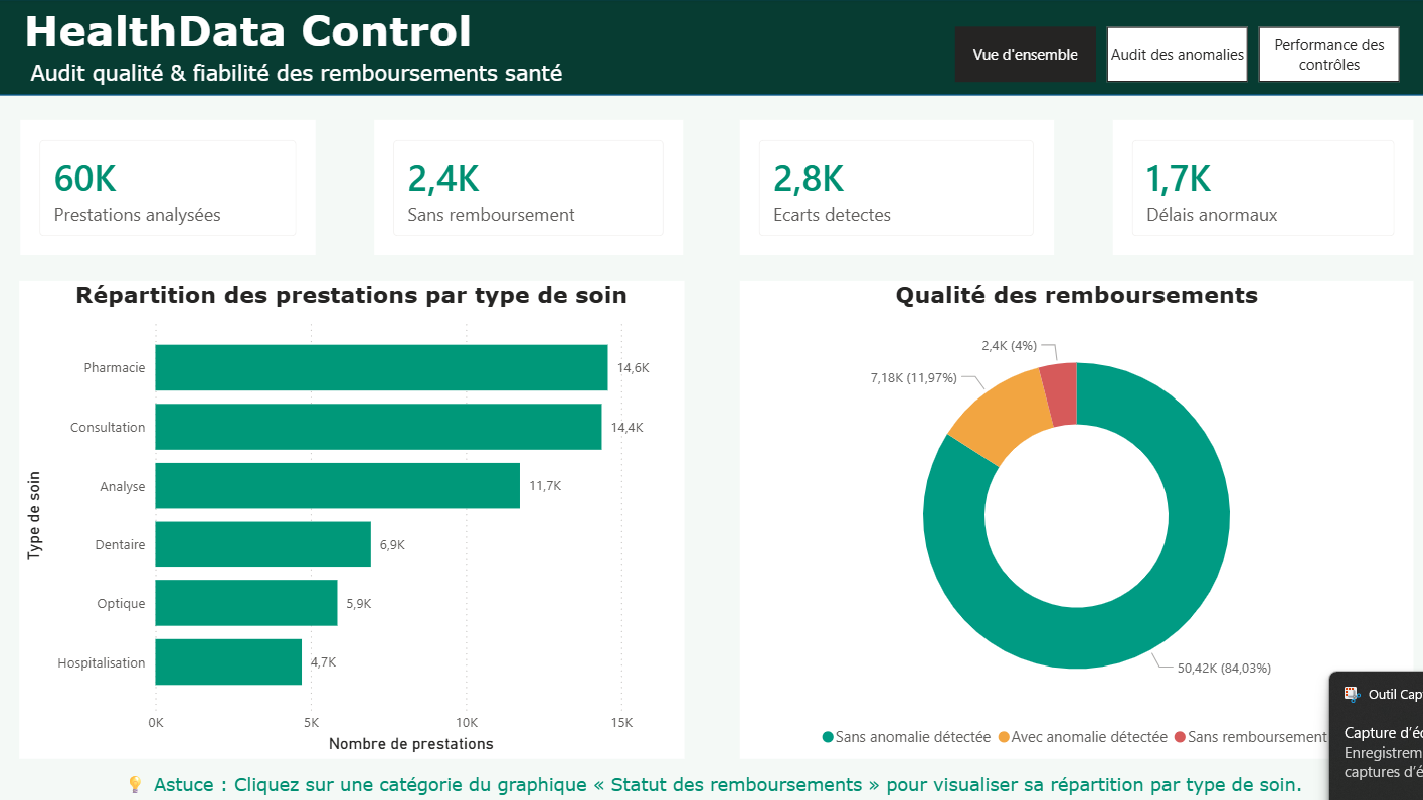

What the dashboard file says about the page in this screenshot:
{"tool":"powerbi","page":{"name":"Vue d'ensemble","canvas":[1280,720],"ordinal":0},"visuals":[{"type":"shape","box":[0,0,1279.4,87],"z":0},{"type":"textbox","box":[0,0,1266.6,87],"z":1000},{"type":"textbox","box":[9.8,14.1,1269.7,72.6],"z":2000},{"type":"cardVisual","fields":{"Data":["Count(rapprochement.id_prestation)"]},"box":[19.8,108.5,264,121.1],"z":3000},{"type":"cardVisual","fields":{"Data":["Count(rapprochement.id_prestation)"]},"box":[337.1,108.5,276.6,121.1],"z":4000},{"type":"cardVisual","fields":{"Data":["rapprochement.Ecarts detectes"]},"box":[663.7,108.5,280.7,121.1],"z":5000},{"type":"cardVisual","fields":{"Data":["Count(rapprochement.id_prestation)"]},"box":[997.7,108.5,269.3,121.1],"z":6000},{"type":"clusteredBarChart","title":"Répartition des prestations par type de soin","fields":{"Category":["rapprochement.type_soin"],"Y":["CountNonNull(rapprochement.id_prestation)"]},"box":[18.8,252.6,594.9,427.9],"z":7000},{"type":"donutChart","title":"Qualité des remboursements","fields":{"Y":["CountNonNull(rapprochement.id_prestation)"],"Category":["rapprochement.categorie_controle"]},"box":[663.7,252.6,603.2,427.9],"z":8000},{"type":"textbox","box":[0,689.3,1279.4,31.1],"z":9000},{"type":"pageNavigator","box":[856.8,25,400.7,50.1],"z":10000}]}

Visuals, with their boxes in screenshot pixels (x1, y1, x2, y2), scaled from the page's 1280x720 canvas onto the 1423x800 screenshot:
shape: 0 0 1422 97
textbox: 0 0 1408 97
textbox: 11 16 1422 96
cardVisual - Count(rapprochement.id_prestation): 22 121 316 255
cardVisual - Count(rapprochement.id_prestation): 375 121 682 255
cardVisual - rapprochement.Ecarts detectes: 738 121 1050 255
cardVisual - Count(rapprochement.id_prestation): 1109 121 1409 255
"Répartition des prestations par type de soin" clusteredBarChart: 21 281 682 756
"Qualité des remboursements" donutChart: 738 281 1408 756
textbox: 0 766 1422 799
pageNavigator: 953 28 1398 83
